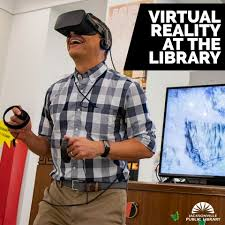oculus: (53, 8, 109, 39)
